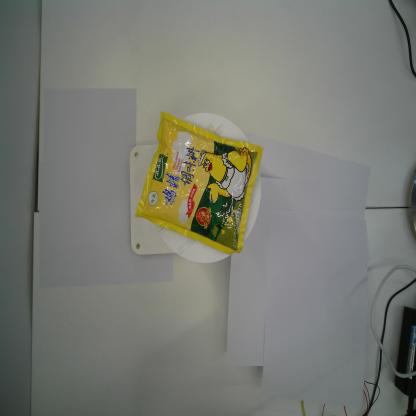Seasoner: (134, 110, 266, 256)
